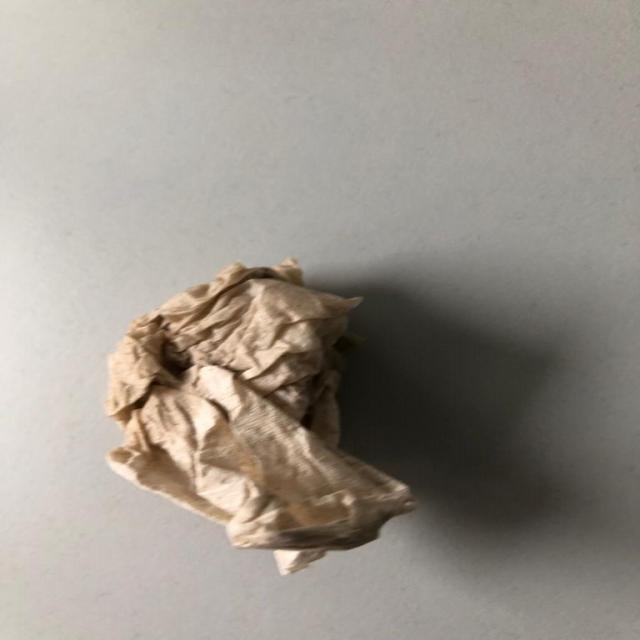kitchen paper: (100, 258, 412, 576)
